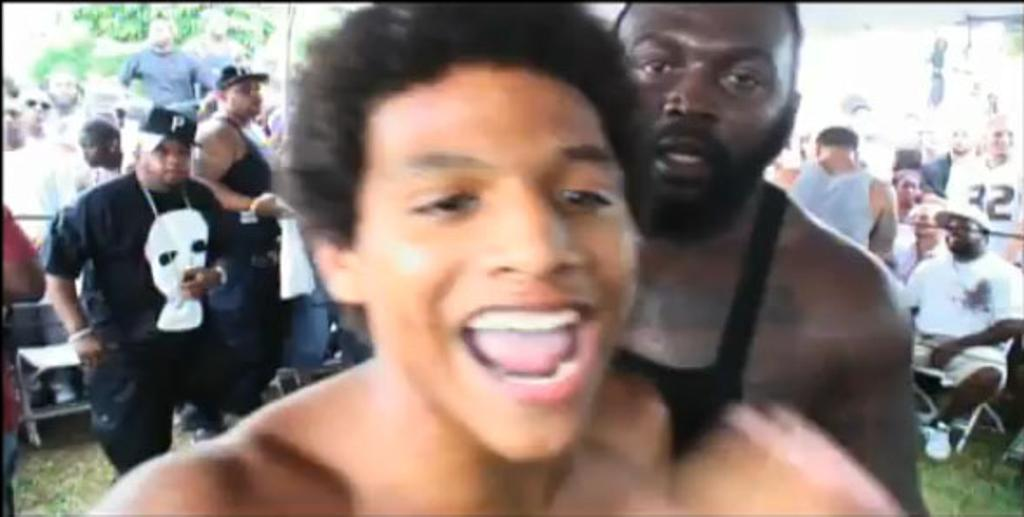face: (361, 67, 639, 458), (619, 7, 788, 201), (147, 132, 191, 182), (225, 76, 261, 114), (944, 212, 979, 249), (23, 93, 50, 126), (80, 131, 104, 164), (911, 210, 934, 234), (56, 75, 75, 102), (6, 101, 20, 135), (950, 127, 967, 151), (150, 24, 168, 46), (899, 181, 916, 200), (992, 135, 1009, 154), (782, 170, 799, 185)
